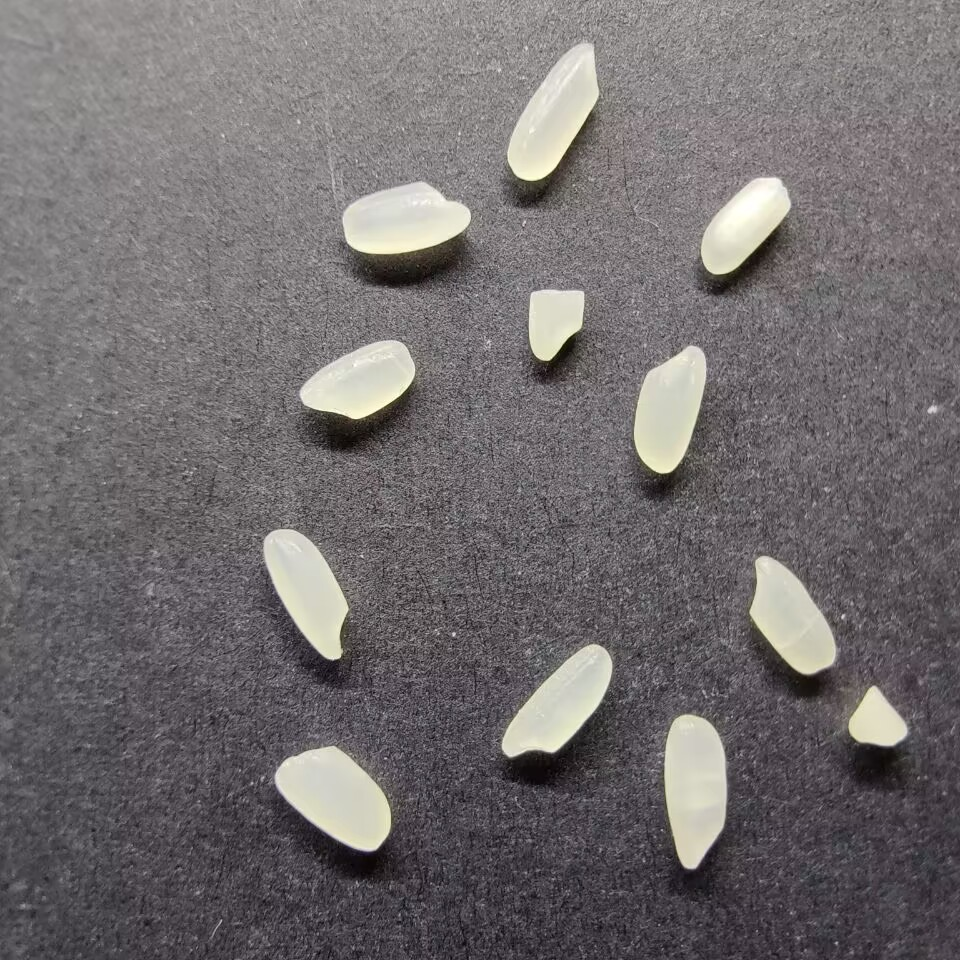broken: (527, 288, 588, 361), (845, 683, 909, 747)
rice: (271, 741, 392, 854), (499, 642, 613, 759), (506, 40, 600, 181), (262, 527, 352, 662), (748, 553, 838, 677), (338, 179, 473, 256), (663, 714, 728, 872), (632, 344, 707, 475), (699, 175, 794, 277), (297, 340, 416, 420)
